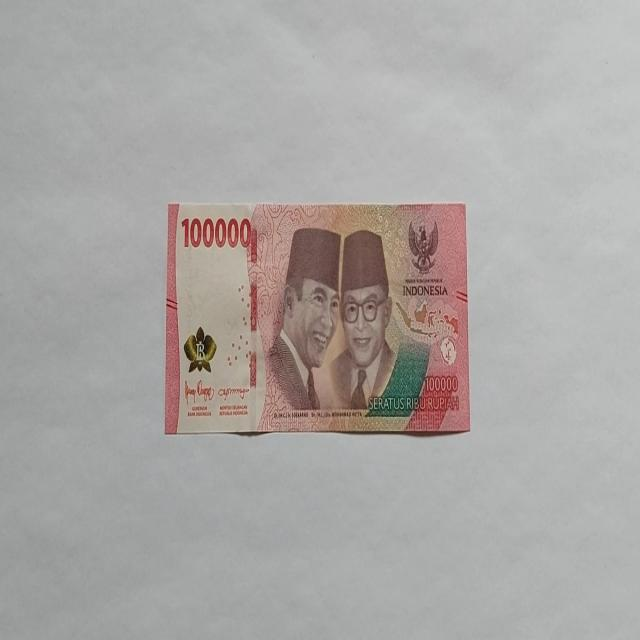seratus ribu rupiah: (164, 200, 470, 436)
